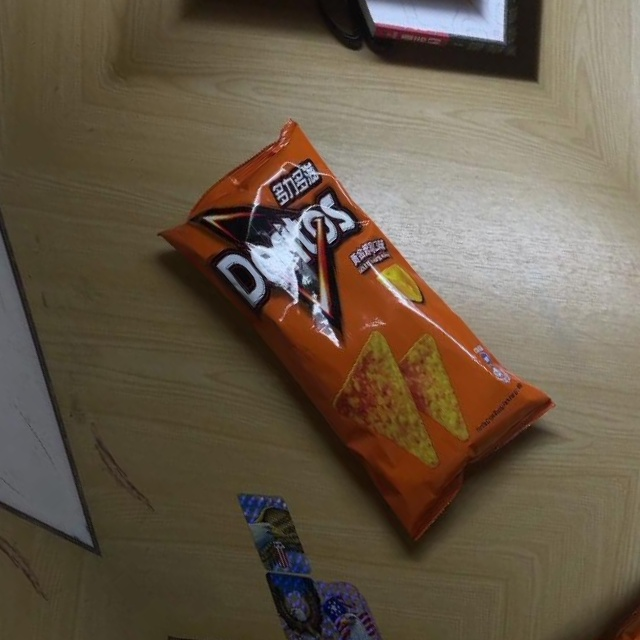Doritos: (151, 103, 567, 544)
